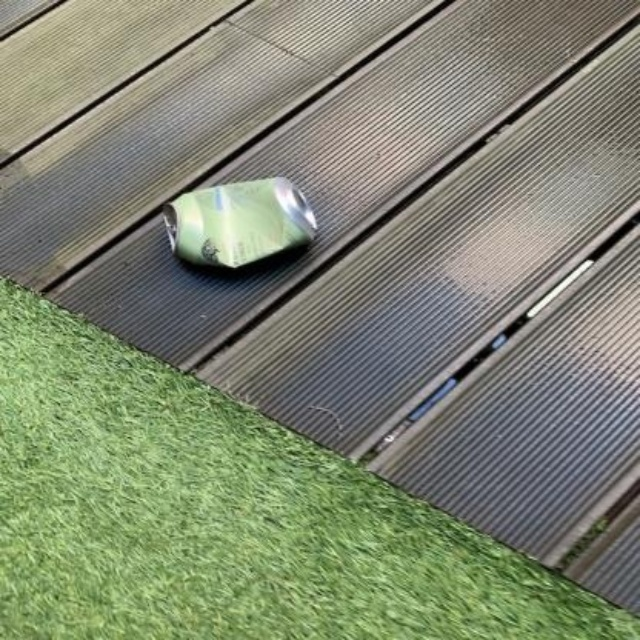trash: (163, 177, 315, 266)
